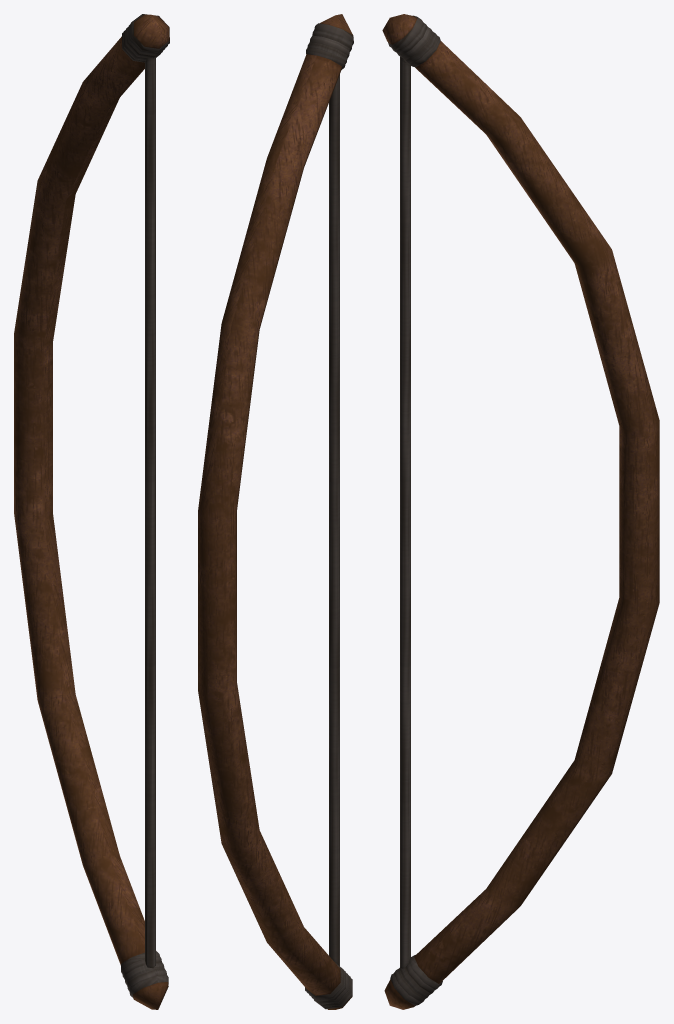
The model's file is Bow.fbx.
3 renders of one model, left to right at view 1: azimuth 30°, elevation 25°; view 2: azimuth 150°, elevation 25°; view 3: azimuth 270°, elevation 25°, orthographic.
Parts seen in each view (by area): view 1: Bow; view 2: Bow; view 3: Bow.
Part boxes in pixels (x1,y1,x2,y2): Bow: (14,14,169,1009); Bow: (198,14,353,1009); Bow: (382,14,659,1009).
Size of the model in its own units: 0.0395 by 0.9674 by 0.244.
